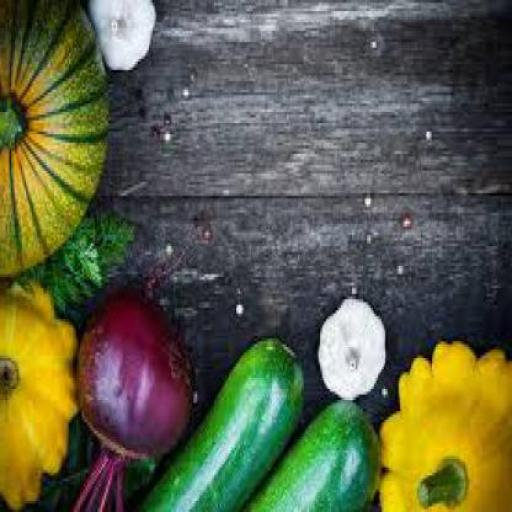biodegradable: (124, 338, 308, 511), (2, 2, 110, 277), (66, 296, 200, 510), (383, 343, 511, 511), (2, 282, 84, 506), (236, 403, 382, 511), (16, 215, 134, 314), (320, 302, 389, 403), (90, 2, 156, 79)
